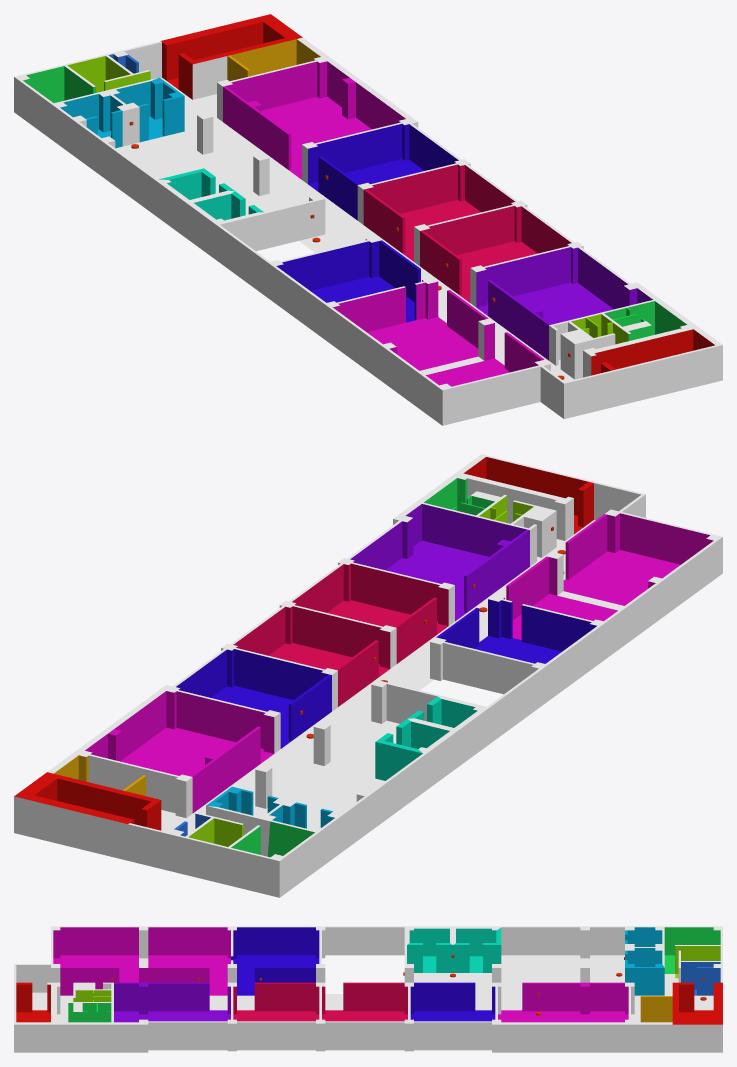
Rendered from petalt9.glb.
The picture shows the model from 3 angles, top to bottom: view 1: azimuth 30°, elevation 25°; view 2: azimuth 150°, elevation 25°; view 3: azimuth 270°, elevation 25°; orthographic projection. The views are drawn at different scales.
Parts seen in each view (by area): view 1: LT9, R.LAB1, R.KULIAH1, R.LAB2, R.MAHASISWA2, R.MAHASISWA1, R.DOSEN1, R.DOSEN2, LIFT.MAHASISWA1, TANGGA.DARURAT1, R.LAB3, TANGGA.DARURAT2 (+6 smaller); view 2: LT9, R.LAB1, R.KULIAH1, R.LAB3, R.MAHASISWA2, R.MAHASISWA1, R.DOSEN1, R.DOSEN2, TANGGA.DARURAT1, LIFT.DOSEN1, R.LAB2, TANGGA.DARURAT2 (+5 smaller); view 3: LT9, R.LAB3, R.DOSEN2, R.LAB2, R.LAB1, R.KULIAH1, LIFT.DOSEN1, R.MAHASISWA1, R.DOSEN1, R.MAHASISWA2, LIFT.MAHASISWA1, TANGGA.DARURAT1 (+7 smaller).
Boxes of the visible parts, x1,y1,x2,y2 form: LT9: (14,37,722,425); R.LAB1: (223,61,405,179); R.KULIAH1: (476,247,652,360); R.LAB2: (333,281,488,370); R.MAHASISWA2: (363,164,514,261); R.MAHASISWA1: (420,206,571,302); R.DOSEN1: (308,123,458,220); R.DOSEN2: (276,240,423,322); LIFT.MAHASISWA1: (60,77,184,148); TANGGA.DARURAT1: (161,14,302,99); R.LAB3: (389,323,544,386); TANGGA.DARURAT2: (591,329,714,375); LT9: (14,454,722,897); R.LAB1: (85,691,274,813); R.KULIAH1: (350,504,529,621); R.LAB3: (563,513,713,605); R.MAHASISWA2: (233,606,390,706); R.MAHASISWA1: (292,563,448,663); R.DOSEN1: (176,649,331,748); R.DOSEN2: (436,599,596,663); TANGGA.DARURAT1: (14,772,161,830); LIFT.DOSEN1: (375,696,477,780); R.LAB2: (503,556,655,639); TANGGA.DARURAT2: (463,457,593,534); LT9: (14,926,722,1052); R.LAB3: (53,927,148,995); R.DOSEN2: (231,927,319,995); R.LAB2: (148,927,230,995); R.LAB1: (498,982,628,1022); R.KULIAH1: (114,982,230,1022); LIFT.DOSEN1: (407,928,501,972); R.MAHASISWA1: (233,982,319,1021); R.DOSEN1: (410,982,495,1021); R.MAHASISWA2: (322,982,407,1021); LIFT.MAHASISWA1: (625,927,664,995); TANGGA.DARURAT1: (672,982,722,1024).
Size of the model in its own units: 1896 by 250 by 5780.
